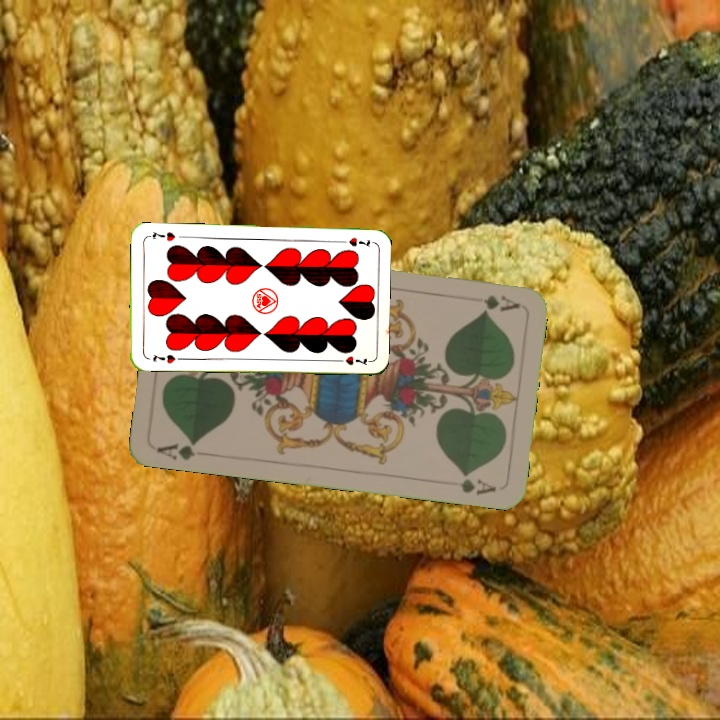GA: (463, 291, 522, 314), (153, 436, 201, 463)
H7: (334, 233, 373, 249), (149, 350, 178, 366)
